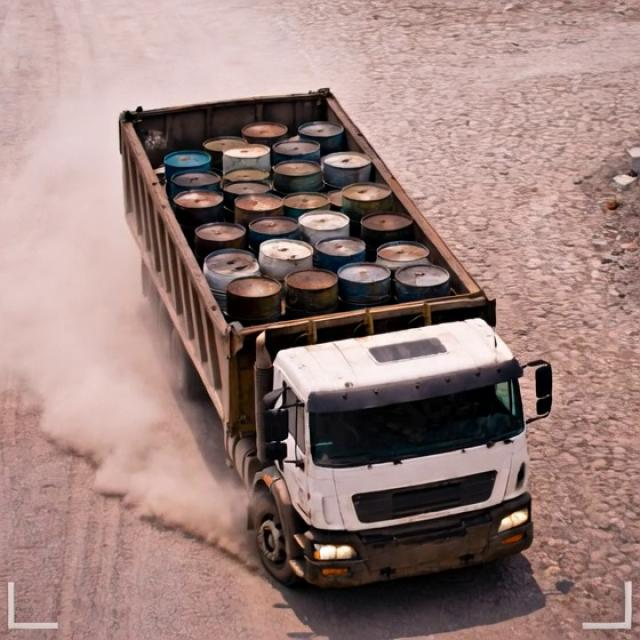Box: (106, 88, 509, 338)
Truck: (62, 45, 559, 581)
